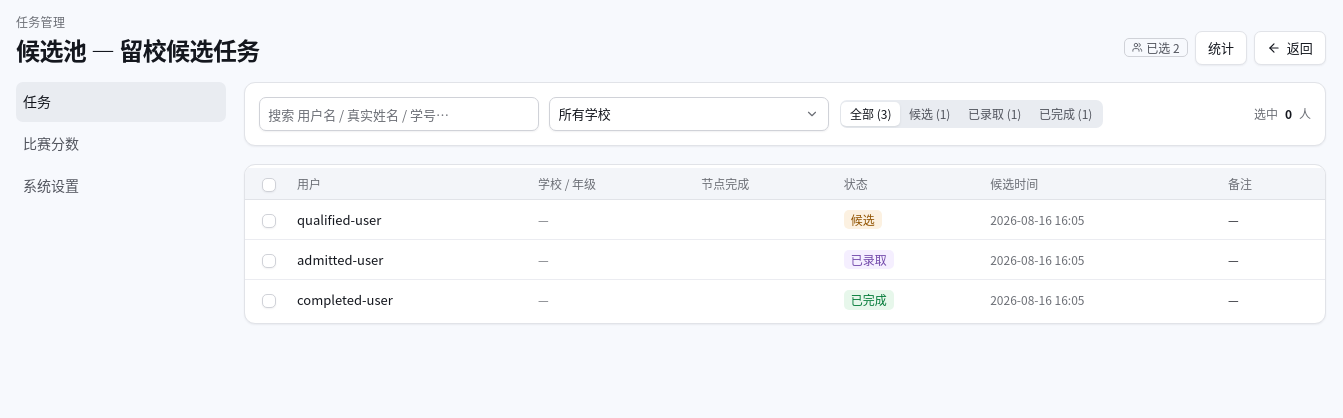
Scenario: task candidate admission actions › only offers operations valid for the selected assignment state
Click the 2nd checkbox at (269, 221), box [262,214,276,228]
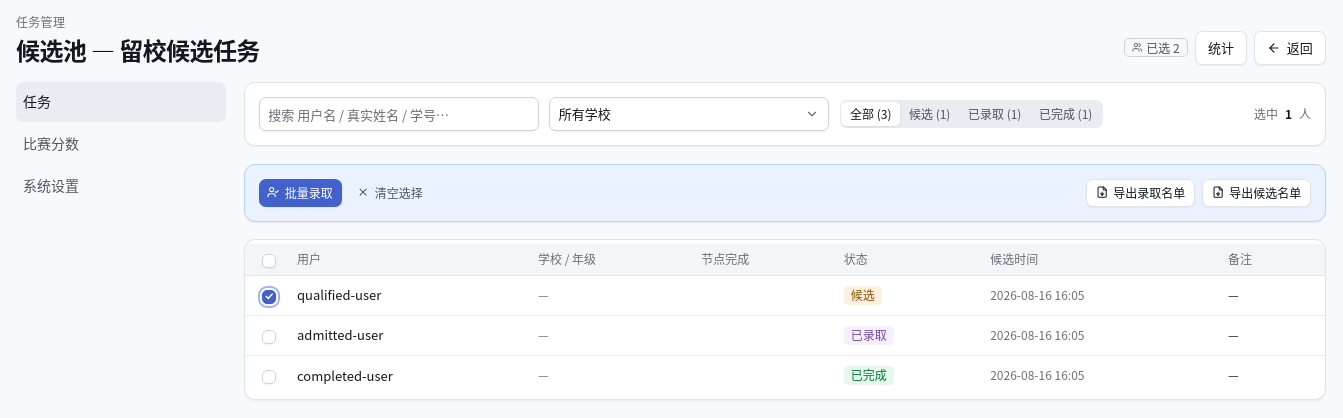
Expected: the button "确认录取并生效" is not shown
Expected: the button "批量录取" is shown, [258,178,342,206]
Click the 2nd checkbox at (269, 297), box [262,290,276,304]
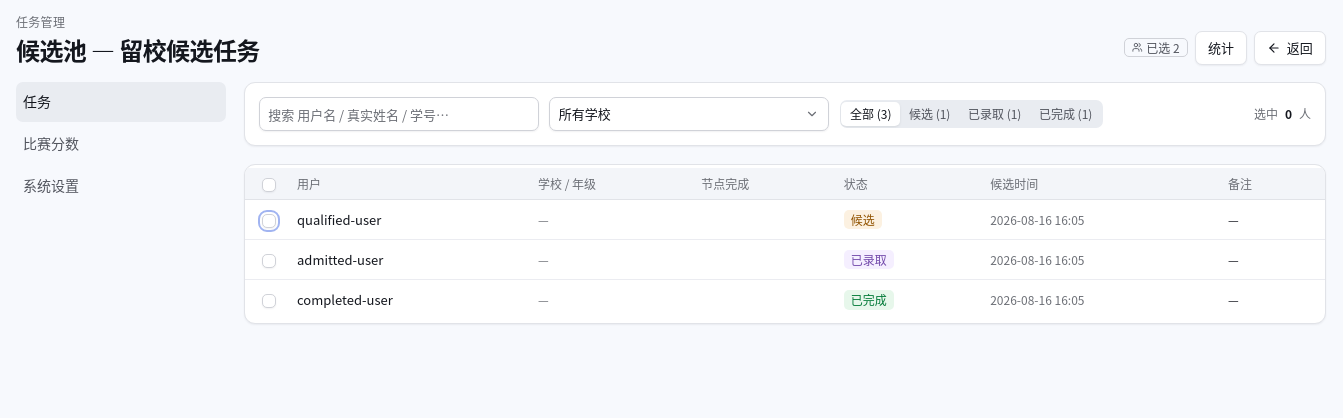
Click the 3rd checkbox at (269, 261), box [262,254,276,268]
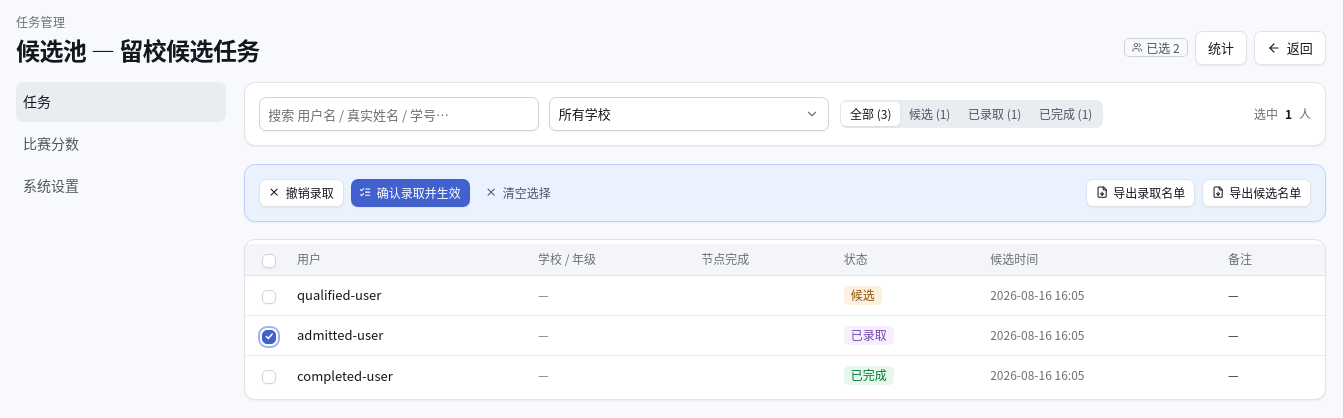
Expected: the button "批量录取" is not shown
Expected: the button "确认录取并生效" is shown, [350,178,470,206]
Expected: the button "撤销录取" is shown, [258,178,344,206]
